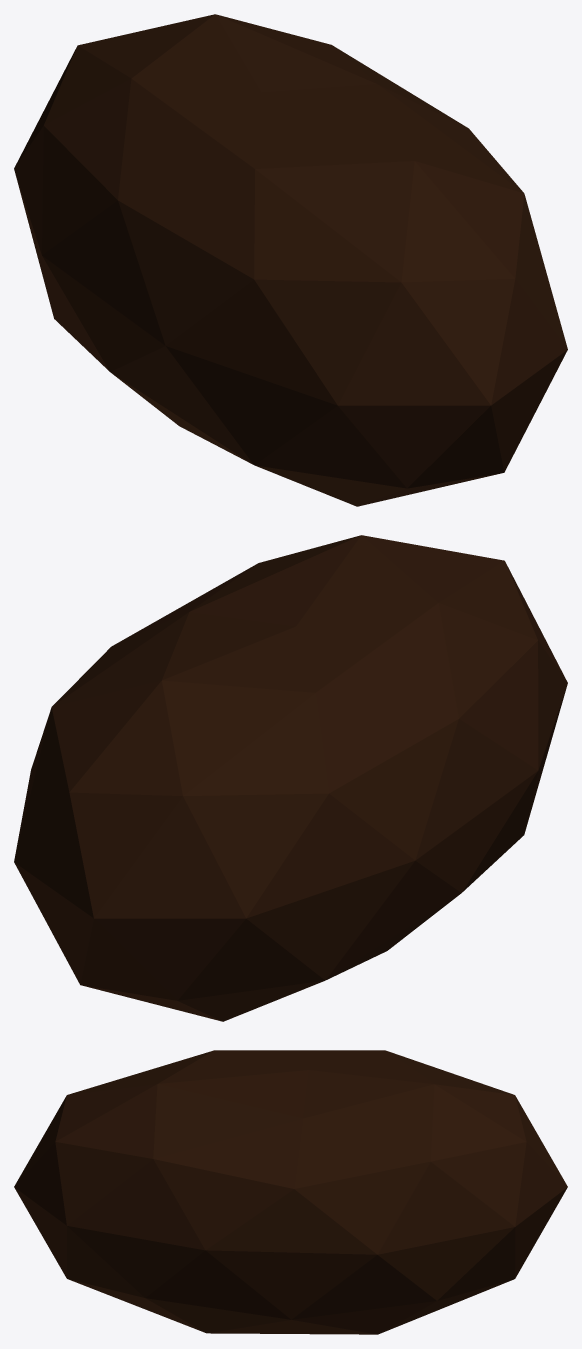
3 views of the same model, one above another, from view 1: azimuth 30°, elevation 25°; view 2: azimuth 150°, elevation 25°; view 3: azimuth 270°, elevation 25° (orthographic). The views are drawn at different scales.
Visible parts, largest first — view 1: Potato_Sphere.017; view 2: Potato_Sphere.017; view 3: Potato_Sphere.017.
Boxes of the visible parts, x1,y1,x2,y2 form: Potato_Sphere.017: (14, 14, 567, 506); Potato_Sphere.017: (14, 535, 567, 1021); Potato_Sphere.017: (14, 1050, 567, 1334).
Size of the model in its own units: 2.06 by 1.78 by 3.7.
Materials: 1 (1 with a texture image).
